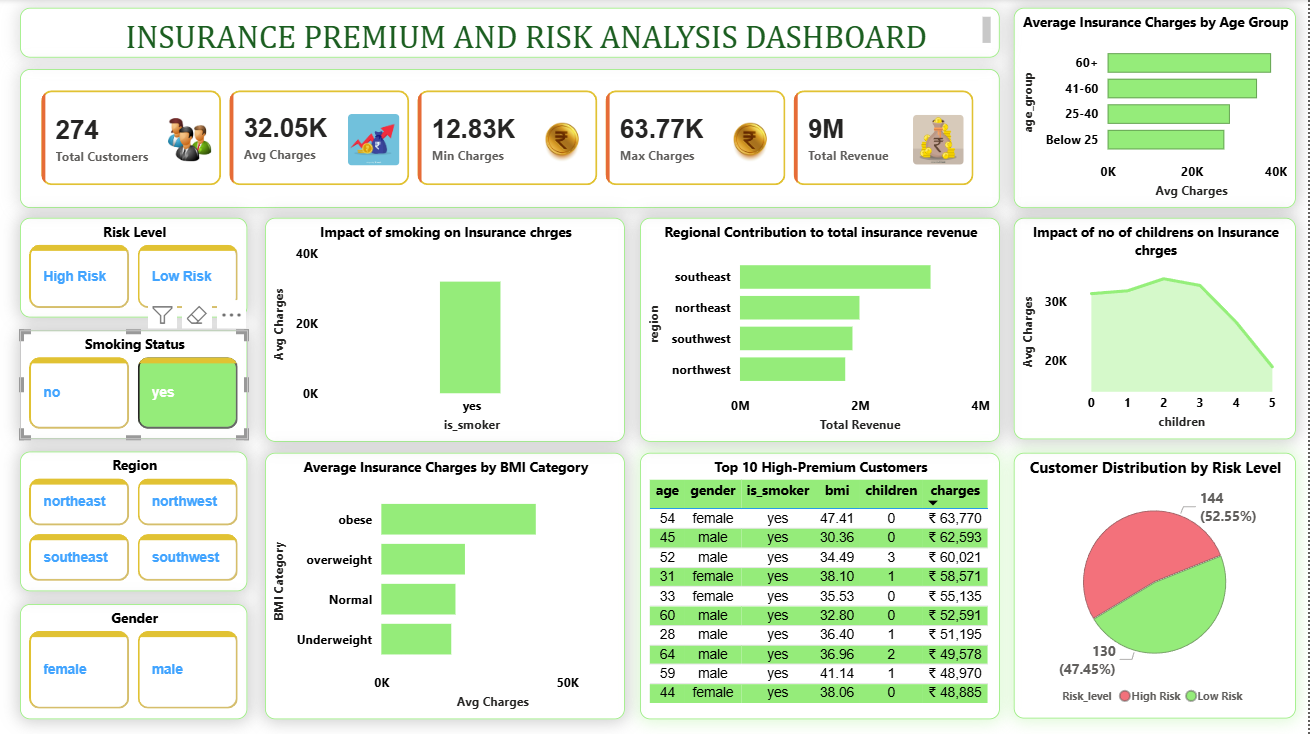

What the dashboard file says about the page in this screenshot:
{"tool":"powerbi","page":{"name":"Page 1","canvas":[1280,720],"ordinal":0},"visuals":[{"type":"cardVisual","fields":{"Data":["insurance_analysis_cleaned.Total Customers","insurance_analysis_cleaned.Avg Charges","insurance_analysis_cleaned.Min Charges","insurance_analysis_cleaned.Max Charges","insurance_analysis_cleaned.Total Revenue"]},"box":[19.6,68.5,958.7,135.7],"z":0},{"type":"advancedSlicerVisual","title":"Region","fields":{"Values":["insurance_analysis_cleaned.region"]},"box":[19.6,442.7,222.6,137],"z":1000},{"type":"advancedSlicerVisual","title":"Smoking Status","fields":{"Values":["insurance_analysis_cleaned.is_smoker"]},"box":[19.6,324.1,222.6,106.4],"z":2000},{"type":"advancedSlicerVisual","title":"Risk Level","fields":{"Values":["insurance_analysis_cleaned.risk_level"]},"box":[19.6,214,222.6,97.8],"z":3000},{"type":"advancedSlicerVisual","title":"Gender","fields":{"Values":["insurance_analysis_cleaned.gender"]},"box":[19.6,591.9,222.6,112.5],"z":4000},{"type":"columnChart","title":"Impact of smoking on Insurance chrges","fields":{"Category":["insurance_analysis_cleaned.is_smoker"],"Y":["insurance_analysis_cleaned.Avg Charges"]},"box":[259.2,214,352.2,218.9],"z":5000},{"type":"barChart","title":"Regional Contribution to total insurance revenue","fields":{"Category":["insurance_analysis_cleaned.region"],"Y":["insurance_analysis_cleaned.Total Revenue"]},"box":[626.1,214,352.2,218.9],"z":6000},{"type":"areaChart","title":"Impact of no of childrens on Insurance chrges","fields":{"Y":["insurance_analysis_cleaned.Avg Charges"],"Category":["insurance_analysis_cleaned.children"]},"box":[991.7,214,276.4,216.4],"z":7000},{"type":"tableEx","title":"Top 10 High-Premium Customers","fields":{"Values":["insurance_analysis_cleaned.age","insurance_analysis_cleaned.gender","insurance_analysis_cleaned.is_smoker","insurance_analysis_cleaned.bmi","insurance_analysis_cleaned.children","insurance_analysis_cleaned.charges"]},"box":[626.1,443.9,352.2,260.5],"z":8000},{"type":"barChart","title":"Average Insurance Charges by BMI Category","fields":{"Y":["insurance_analysis_cleaned.Avg Charges"],"Category":["insurance_analysis_cleaned.bmi_category"]},"box":[259.2,443.9,352.2,260.5],"z":9000},{"type":"pieChart","title":"Customer Distribution by Risk Level","fields":{"Category":["insurance_analysis_cleaned.risk_level"],"Y":["CountNonNull(insurance_analysis_cleaned.customerid)"]},"box":[992,444,276,260],"z":10000},{"type":"barChart","title":"Average Insurance Charges by Age Group","fields":{"Y":["insurance_analysis_cleaned.Avg Charges"],"Category":["insurance_analysis_cleaned.age_group"]},"box":[991.7,8.6,276.4,195.7],"z":11000},{"type":"textbox","box":[19.6,8.6,958.7,48.9],"z":12000}]}

Visuals, with their boxes in screenshot pixels (x1, y1, x2, y2), scaled from the page's 1280x720 canvas onto the 1310x734 screenshot:
cardVisual - insurance_analysis_cleaned.Total Customers x insurance_analysis_cleaned.Avg Charges: (left=20, top=70, right=1001, bottom=208)
"Region" advancedSlicerVisual: (left=20, top=451, right=248, bottom=591)
"Smoking Status" advancedSlicerVisual: (left=20, top=330, right=248, bottom=439)
"Risk Level" advancedSlicerVisual: (left=20, top=218, right=248, bottom=318)
"Gender" advancedSlicerVisual: (left=20, top=603, right=248, bottom=718)
"Impact of smoking on Insurance chrges" columnChart: (left=265, top=218, right=626, bottom=441)
"Regional Contribution to total insurance revenue" barChart: (left=641, top=218, right=1001, bottom=441)
"Impact of no of childrens on Insurance chrges" areaChart: (left=1015, top=218, right=1298, bottom=439)
"Top 10 High-Premium Customers" tableEx: (left=641, top=453, right=1001, bottom=718)
"Average Insurance Charges by BMI Category" barChart: (left=265, top=453, right=626, bottom=718)
"Customer Distribution by Risk Level" pieChart: (left=1015, top=453, right=1298, bottom=718)
"Average Insurance Charges by Age Group" barChart: (left=1015, top=9, right=1298, bottom=208)
textbox: (left=20, top=9, right=1001, bottom=59)
